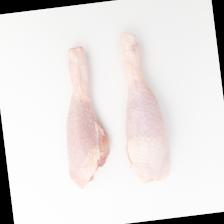chicken: (110, 27, 172, 185), (53, 43, 114, 190)
